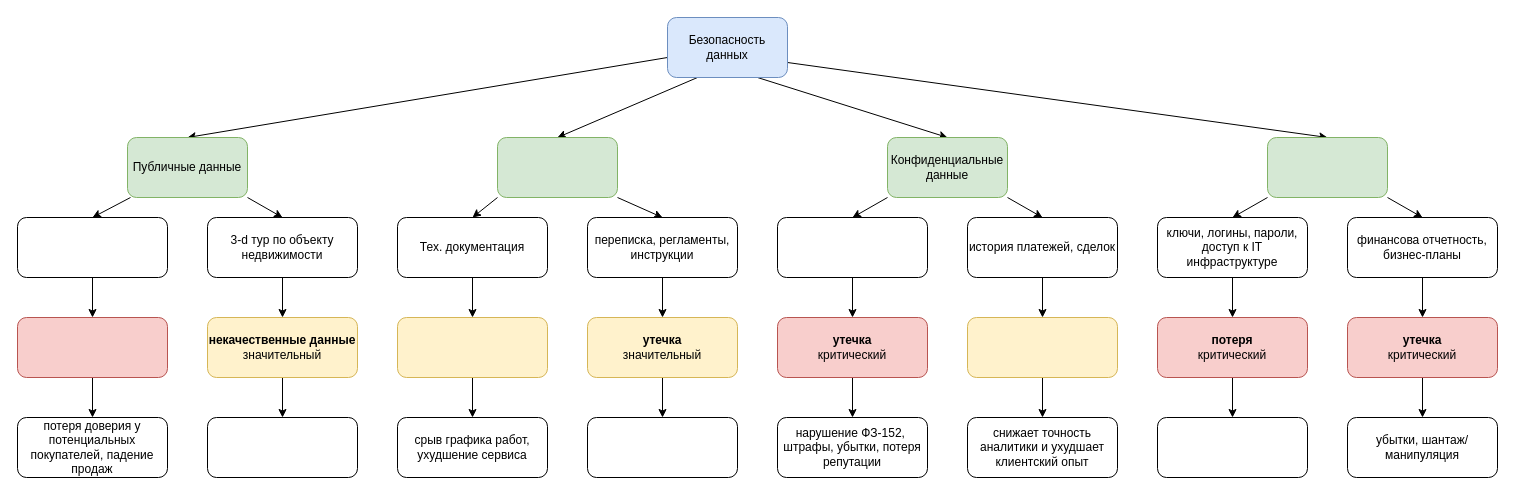
Some shapes in this 1515 by 495 pixel diagram are drawn without their labels. Here are the shapes that lost their labels. From the top down, the box of each, then its label:
(496, 136, 618, 198): Внутренние данные
(1266, 136, 1388, 198): Секретные данные
(16, 216, 168, 278): Информация об объектах недвижимости
(776, 216, 928, 278): данные клиентов, бронирование, договоры
(16, 316, 168, 378): искажение критический
(396, 316, 548, 378): потеря значительный
(966, 316, 1118, 378): обесценивание значительный
(206, 416, 358, 478): вводит клиентов в заблуждение
(586, 416, 738, 478): раскрытие конкуретного преимущества
(1156, 416, 1308, 478): остановка, простой системы
